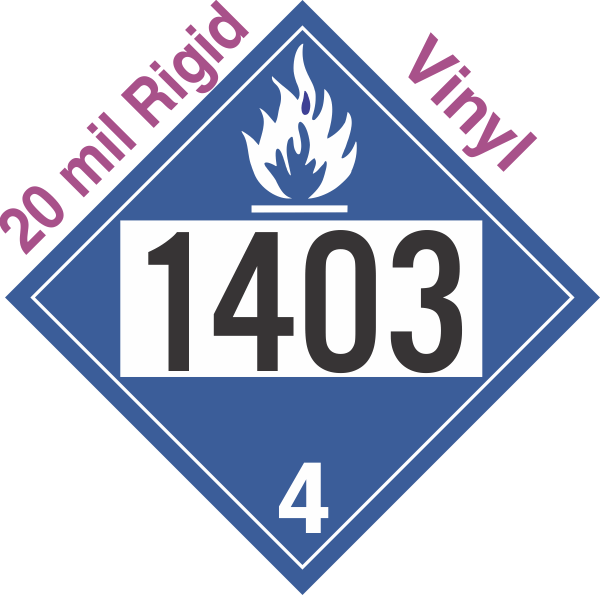Dangerous when wet: (5, 1, 600, 595)
